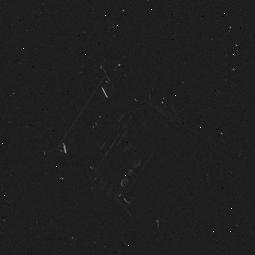proba_2: (52, 47, 155, 224)
